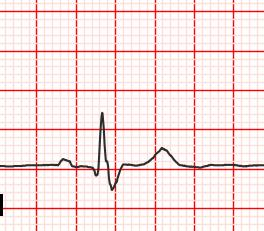ST Depression: (90, 159, 127, 193)
